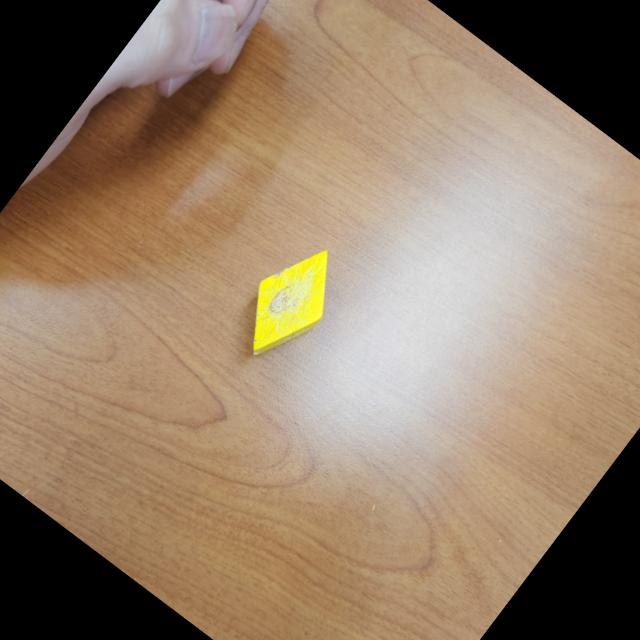broken: (222, 232, 354, 376)
